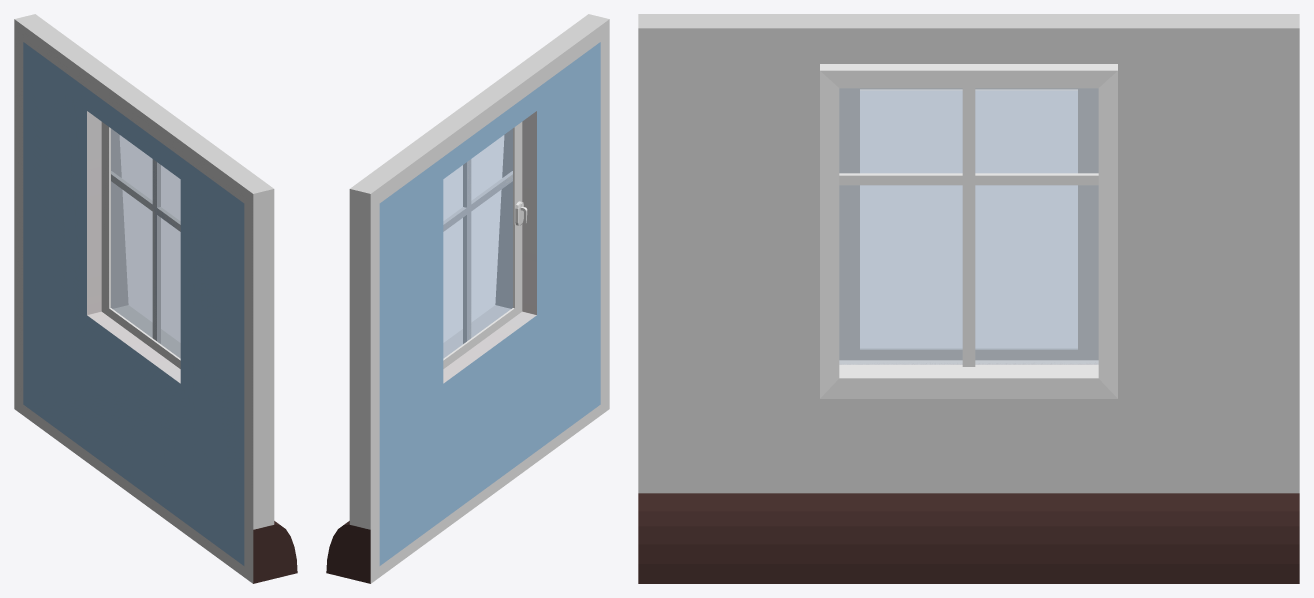
File: Window A.fbx
3 renders of one model, left to right at view 1: azimuth 30°, elevation 25°; view 2: azimuth 150°, elevation 25°; view 3: azimuth 270°, elevation 25°, orthographic. The views are drawn at different scales.
Visible parts, largest first — view 1: Window A; view 2: Window A; view 3: Window A.
Part boxes in pixels (x1,y1,x2,y2): Window A: [14, 14, 297, 583]; Window A: [326, 14, 609, 583]; Window A: [638, 14, 1299, 583].
Bounding box in the file's own units: 85.83 × 721 × 800.
